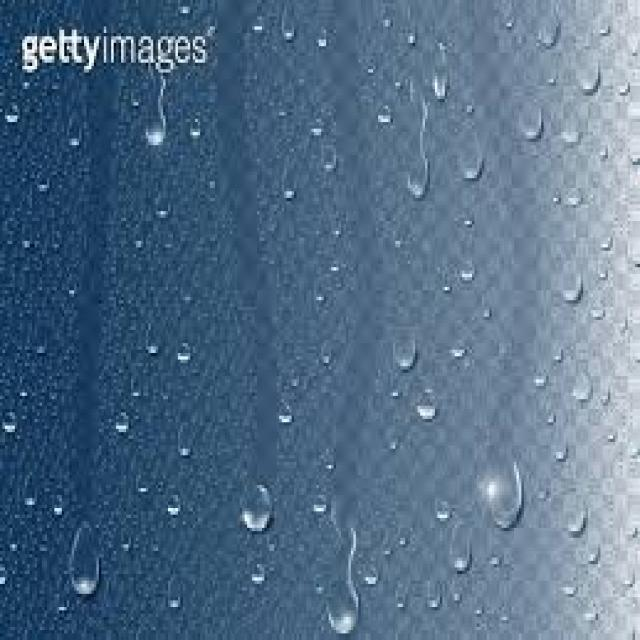raindrop: (472, 446, 532, 552), (60, 512, 111, 608), (314, 565, 376, 640), (234, 450, 282, 546), (133, 89, 179, 160), (502, 82, 556, 142), (406, 143, 451, 214), (444, 126, 490, 190), (563, 42, 609, 104)
